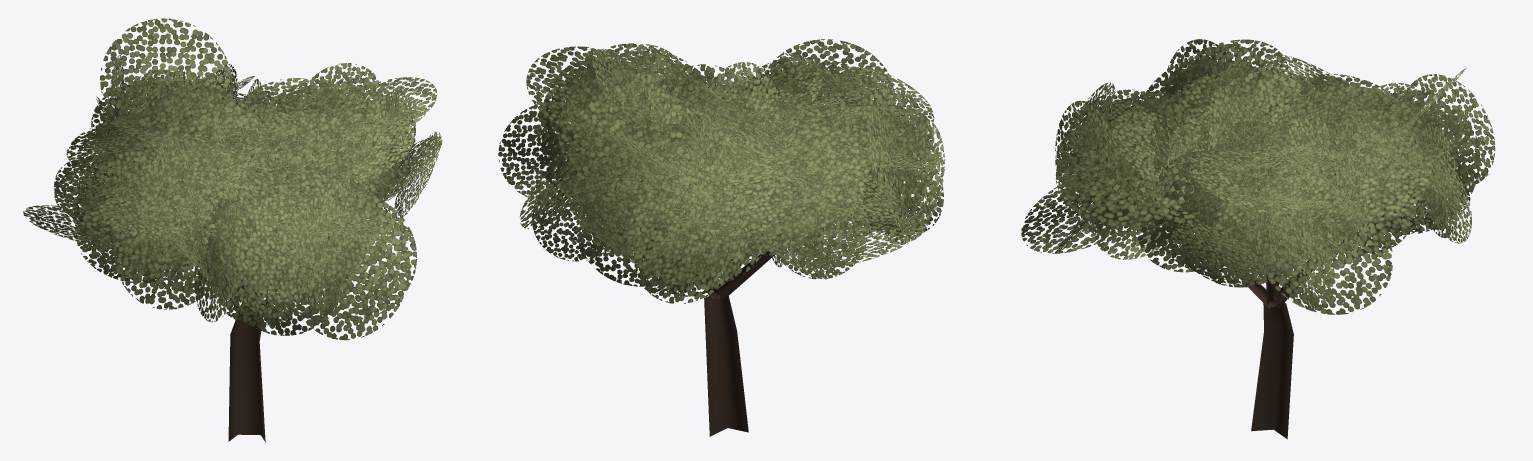
Rendered from caral_huarango_lod1.glb.
The picture shows the model from 3 angles, left to right: view 1: azimuth 30°, elevation 25°; view 2: azimuth 150°, elevation 25°; view 3: azimuth 270°, elevation 25°; orthographic projection. The views are drawn at different scales.
Parts seen in each view (by area): view 1: GEO-Kit_huarango_LOD1; view 2: GEO-Kit_huarango_LOD1; view 3: GEO-Kit_huarango_LOD1.
Boxes of the visible parts, x1=… form: GEO-Kit_huarango_LOD1: x1=23, y1=18, x2=442, y2=442; GEO-Kit_huarango_LOD1: x1=498, y1=39, x2=944, y2=436; GEO-Kit_huarango_LOD1: x1=1021, y1=39, x2=1495, y2=439.
Size of the model in its own units: 7.77 by 6.51 by 8.31.
2 materials, 1 textured.
